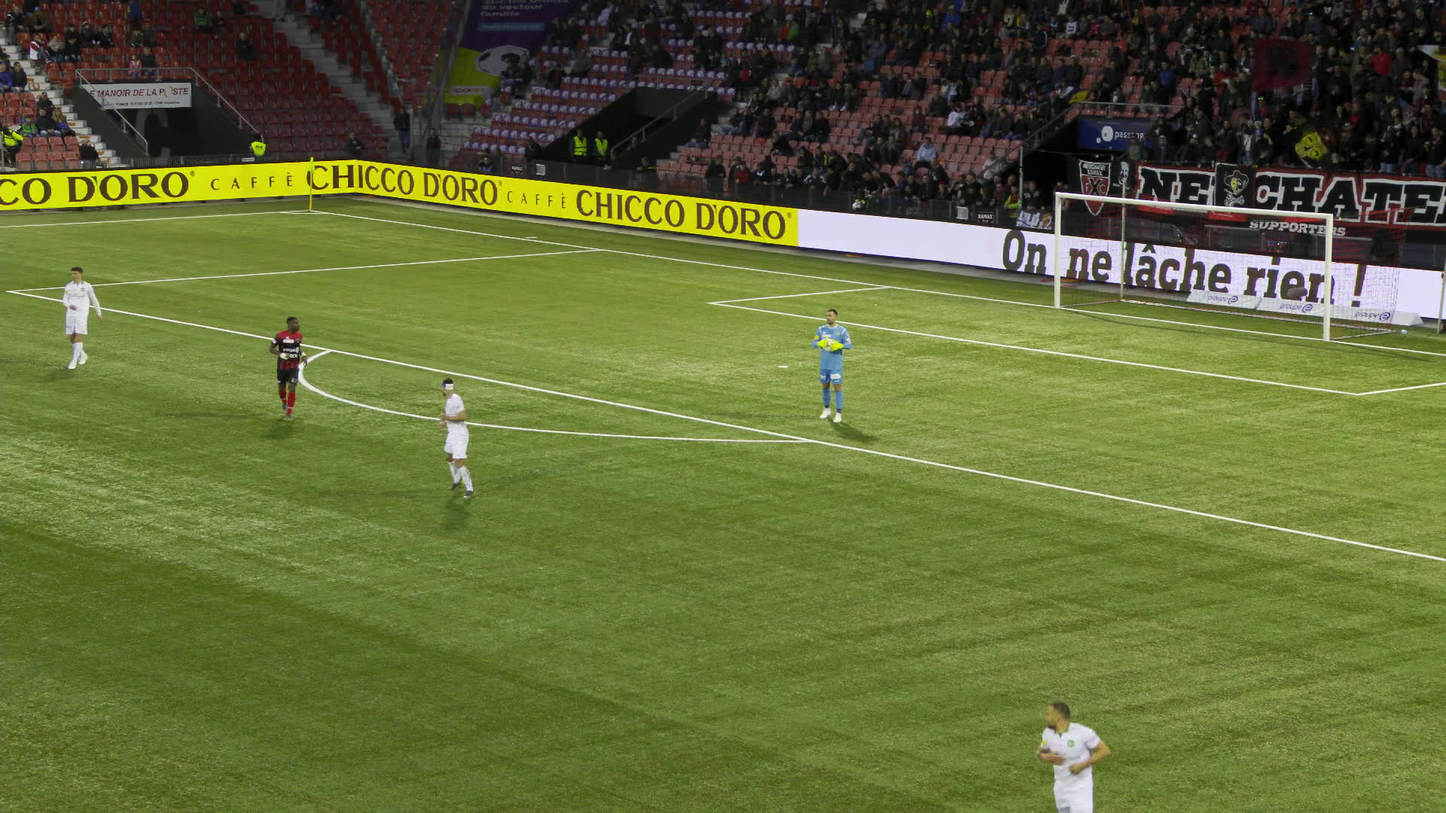ball: (825, 339, 833, 352)
player: (1040, 699, 1105, 812), (439, 376, 476, 499), (813, 309, 850, 422), (62, 266, 101, 368), (270, 317, 309, 418)
